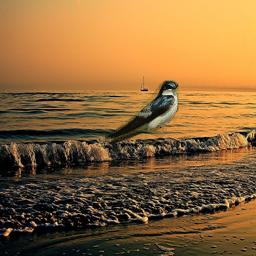Swallow: (105, 80, 179, 145)
